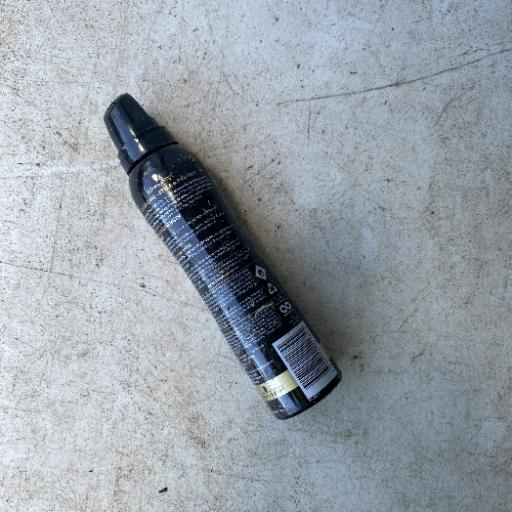Metal: (101, 91, 344, 422)
